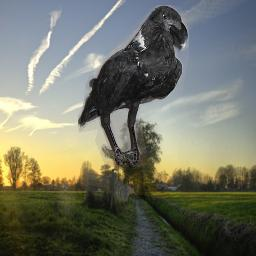Crow: (78, 5, 189, 167)
